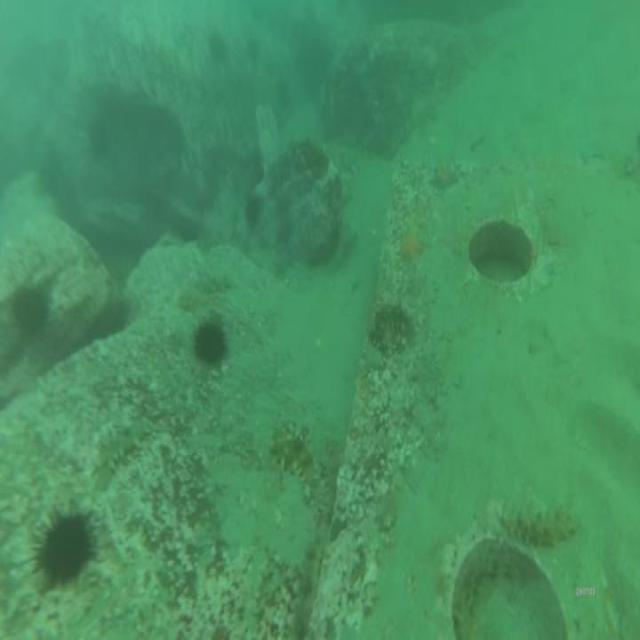echinus: (33, 507, 91, 596), (191, 314, 232, 370), (14, 277, 46, 338)
holothurian: (499, 499, 584, 548), (367, 294, 413, 348), (273, 420, 314, 478)
starfish: (397, 223, 428, 265), (431, 158, 461, 194)
